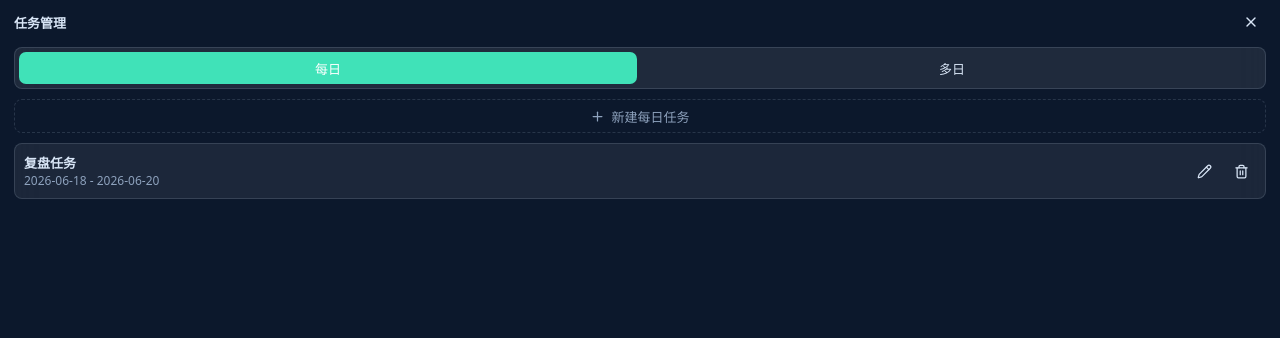
Test: TaskManagePanel › lays out editing controls as a full-width form with bottom actions
Click the button named "编辑": [1204, 171] box [1189, 156, 1219, 186]
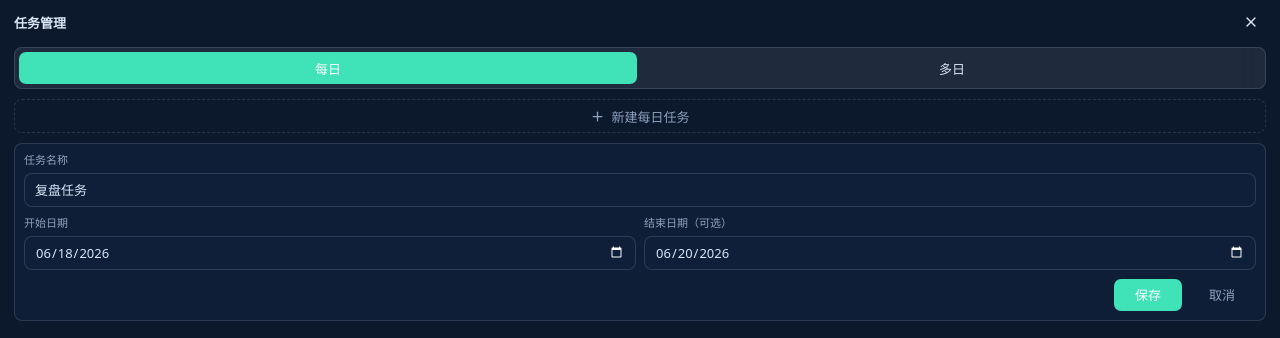
Now the element "保存" is shown, box [24, 153, 1256, 311]
Now the field named "编辑任务标题" holds "复盘任务", box [24, 173, 1256, 207]
Now the date field named "编辑开始日期" holds "2026-06-18", box [24, 236, 636, 270]
